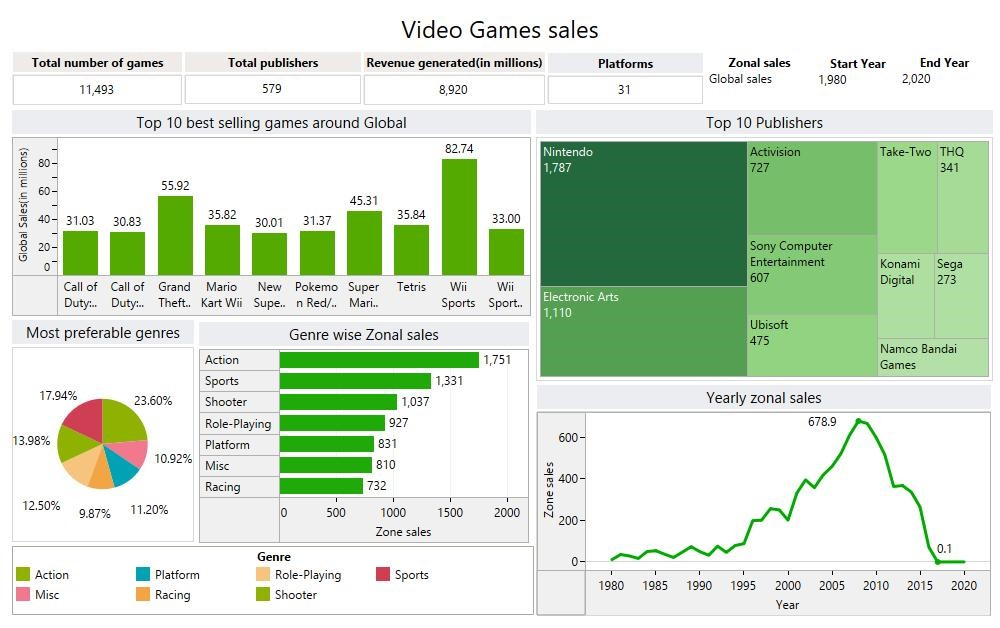

The page's visual inventory and layout, read from the dashboard file:
{"tool":"tableau","page":{"name":"Dashboard 1","canvas":[1000,800],"ordinal":0},"visuals":[{"type":"title","box":[8,8,984,40]},{"type":"worksheet","title":"Count of games","mark":"Automatic","box":[13,52,169,53]},{"type":"worksheet","title":"Count of publishers","mark":"Automatic","box":[185,52,176,52]},{"type":"worksheet","title":"Revenue generated","mark":"Automatic","box":[364,52,181,53]},{"type":"worksheet","title":"Counts of platforms","mark":"Automatic","box":[548,53,155,51]},{"type":"parameter","param":"[Parameters].[Parameter 1]","box":[707,53,105,51]},{"type":"parameter","param":"[Parameters].[Parameter 3]","box":[900,53,89,43]},{"type":"parameter","param":"[Parameters].[Parameter 2]","box":[816,54,84,49]},{"type":"worksheet","title":"Top selling games","mark":"Automatic","rows":["Global_Sales"],"cols":["Name"],"box":[12,110,519,206]},{"type":"worksheet","title":"Top publishers","mark":"Automatic","box":[536,110,457,272]},{"type":"worksheet","title":"Preferable games","mark":"Pie","box":[12,320,187,222]},{"type":"worksheet","title":"Genre wise Zonal sales","mark":"Automatic","rows":["Genre"],"cols":["Calculation_863002333877837824"],"box":[199,322,330,221]},{"type":"worksheet","title":"Yearly zonal sales","mark":"Automatic","rows":["Calculation_863002333877837824"],"cols":["Year"],"box":[537,385,454,231]},{"type":"legend","title":"Preferable games","param":"[federated.0q30jb21gmbg3l1atbnnh1np42ev].[none:Genre:nk]","box":[12,546,522,69]}]}

Visuals, with their boxes on the page's 1000x800 design canvas (x1, y1, x2, y2). These are canvas units, not pixel positions in the 1000x628 screenshot, which may show the page scaled, cropped or inside an application window:
title: (left=8, top=8, right=992, bottom=48)
"Count of games" worksheet: (left=13, top=52, right=182, bottom=105)
"Count of publishers" worksheet: (left=185, top=52, right=361, bottom=104)
"Revenue generated" worksheet: (left=364, top=52, right=545, bottom=105)
"Counts of platforms" worksheet: (left=548, top=53, right=703, bottom=104)
parameter: (left=707, top=53, right=812, bottom=104)
parameter: (left=900, top=53, right=989, bottom=96)
parameter: (left=816, top=54, right=900, bottom=103)
"Top selling games" worksheet: (left=12, top=110, right=531, bottom=316)
"Top publishers" worksheet: (left=536, top=110, right=993, bottom=382)
"Preferable games" worksheet (Pie marks): (left=12, top=320, right=199, bottom=542)
"Genre wise Zonal sales" worksheet: (left=199, top=322, right=529, bottom=543)
"Yearly zonal sales" worksheet: (left=537, top=385, right=991, bottom=616)
"Preferable games" legend: (left=12, top=546, right=534, bottom=615)
